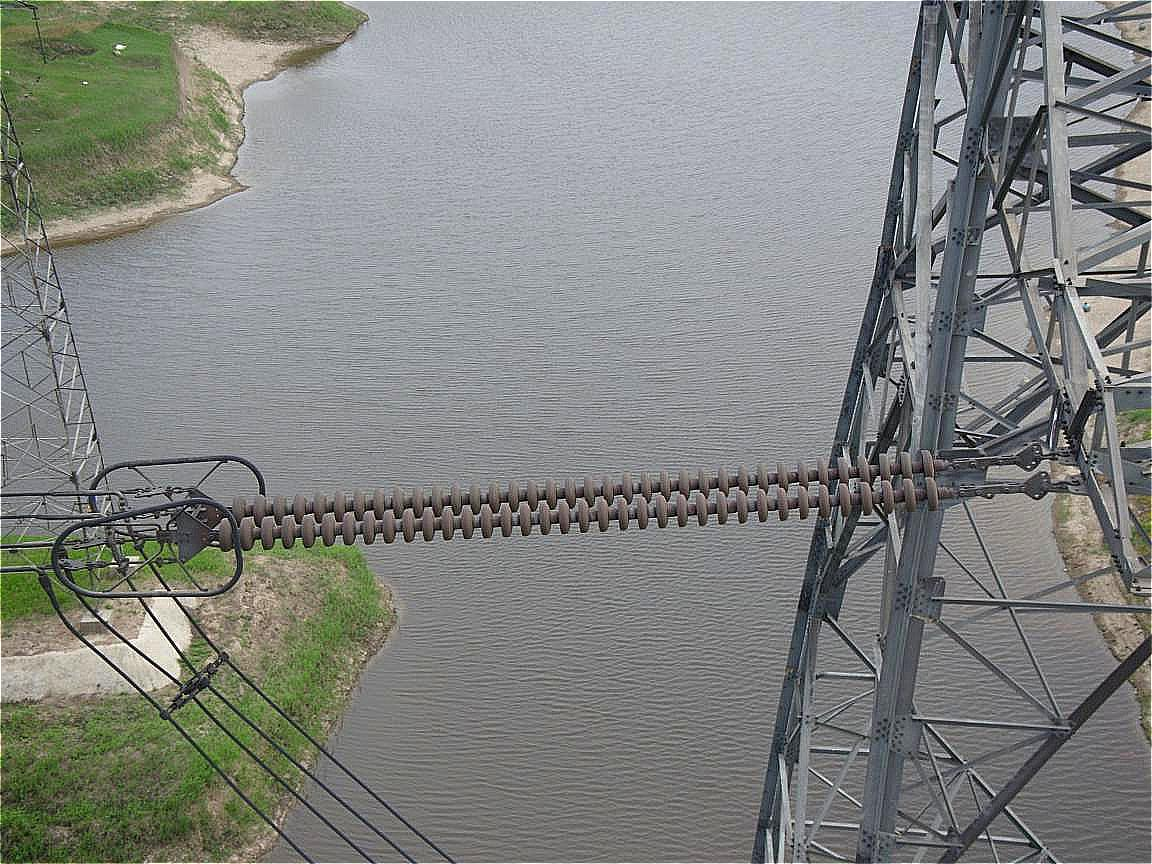insultor1: (218, 427, 965, 561)
